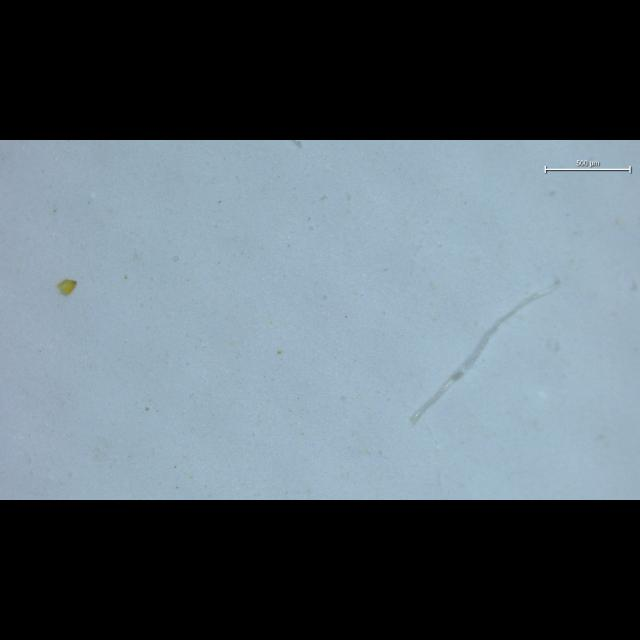Fibre: (410, 280, 560, 426)
Fragment: (57, 279, 77, 295)
